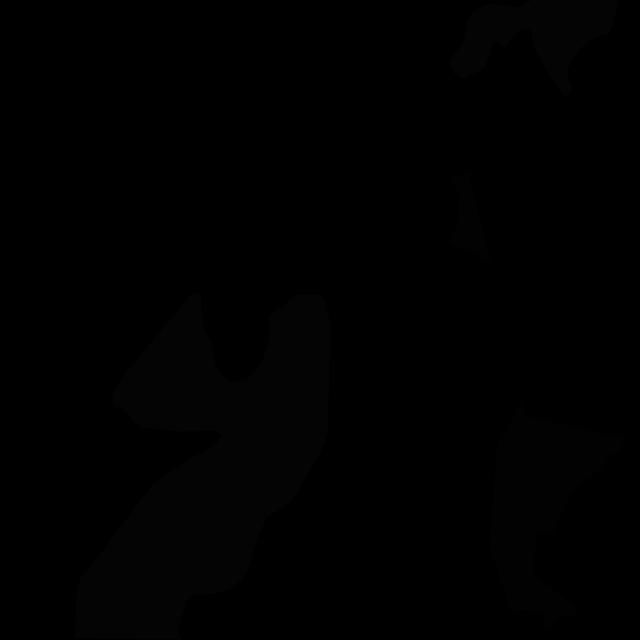cardboard: (489, 400, 626, 627), (449, 171, 492, 263)
soft_plastic: (75, 293, 330, 640), (449, 0, 619, 96)
